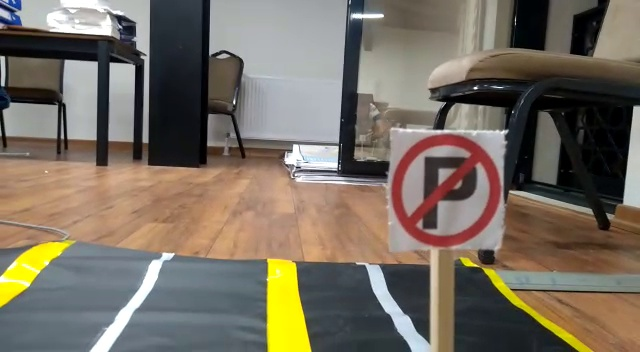park_yapilmaz: (390, 129, 505, 249)
